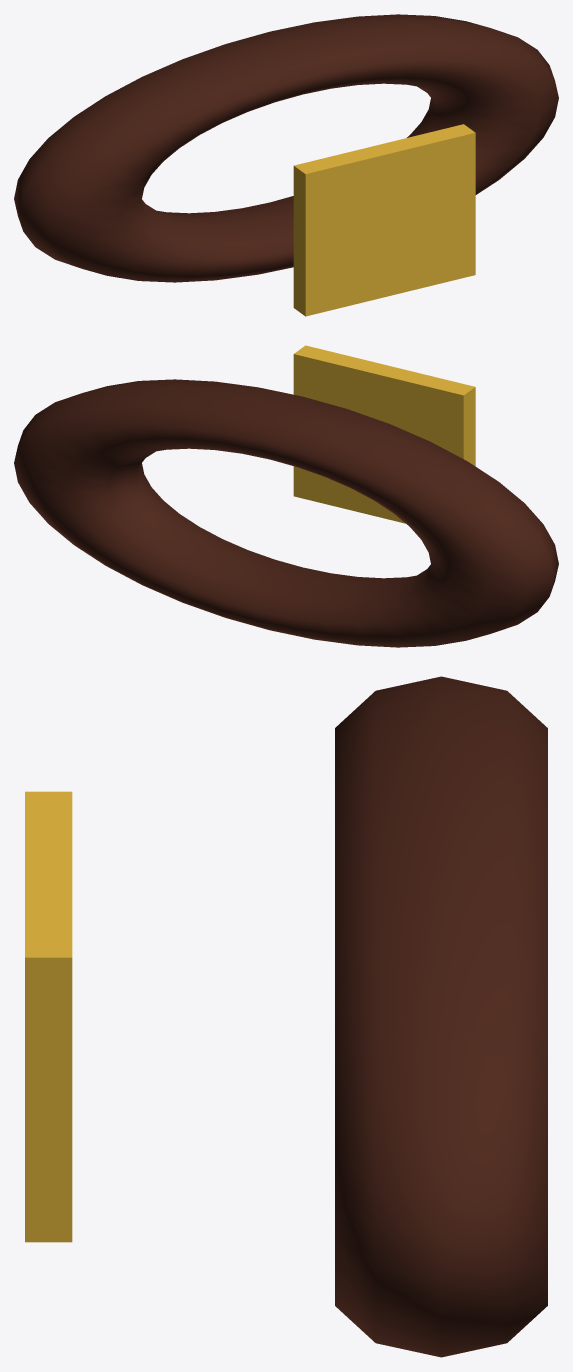
File: prop_mule_championship_belt.glb
The picture shows the model from 3 angles, top to bottom: view 1: azimuth 30°, elevation 25°; view 2: azimuth 150°, elevation 25°; view 3: azimuth 270°, elevation 25°; orthographic projection. The views are drawn at different scales.
Parts seen in each view (by area): view 1: Handle_Grip_Leather, Gold_Championship_Plate; view 2: Handle_Grip_Leather, Gold_Championship_Plate; view 3: Handle_Grip_Leather, Gold_Championship_Plate.
Boxes of the visible parts, x1,y1,x2,y2 form: Handle_Grip_Leather: (14, 14, 558, 282); Gold_Championship_Plate: (293, 124, 475, 316); Handle_Grip_Leather: (14, 379, 558, 647); Gold_Championship_Plate: (293, 345, 475, 523); Handle_Grip_Leather: (335, 676, 547, 1357); Gold_Championship_Plate: (25, 791, 72, 1242).
Bounding box in the file's own units: 0.4715 × 0.1845 × 0.1997.
